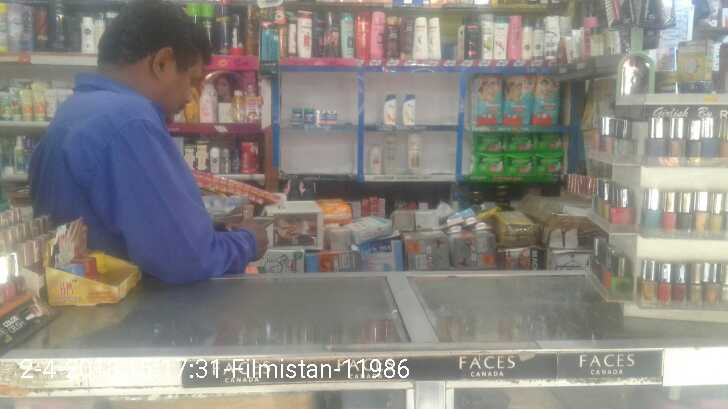vicks: (286, 106, 340, 128)
